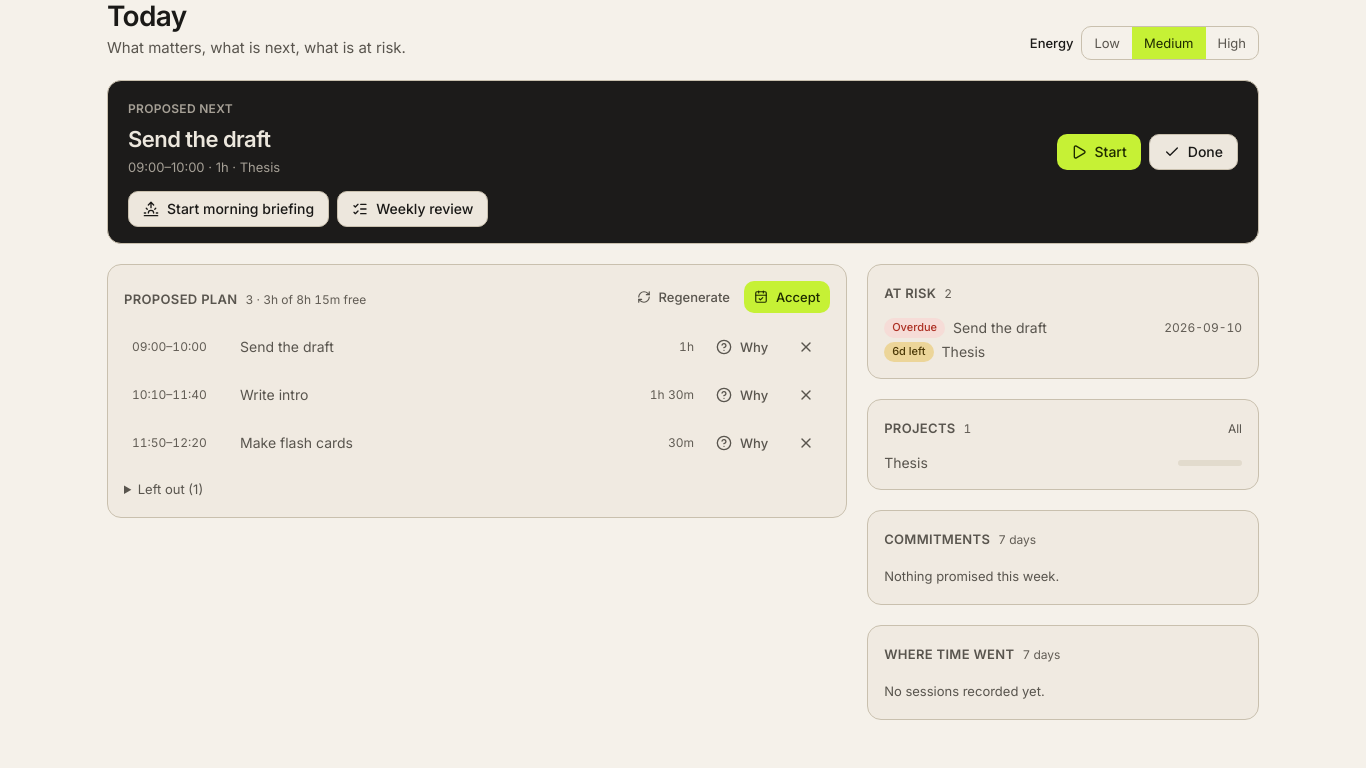
Test: TodayPage › opens a "why" popover listing the explanation components
This screenshot has width=1366, height=768.
Expected: the element with test id "focus" is shown, [107,80,1259,244]
Click the button with aria-label "Why Send the draft": (742,347) [706,331,778,363]
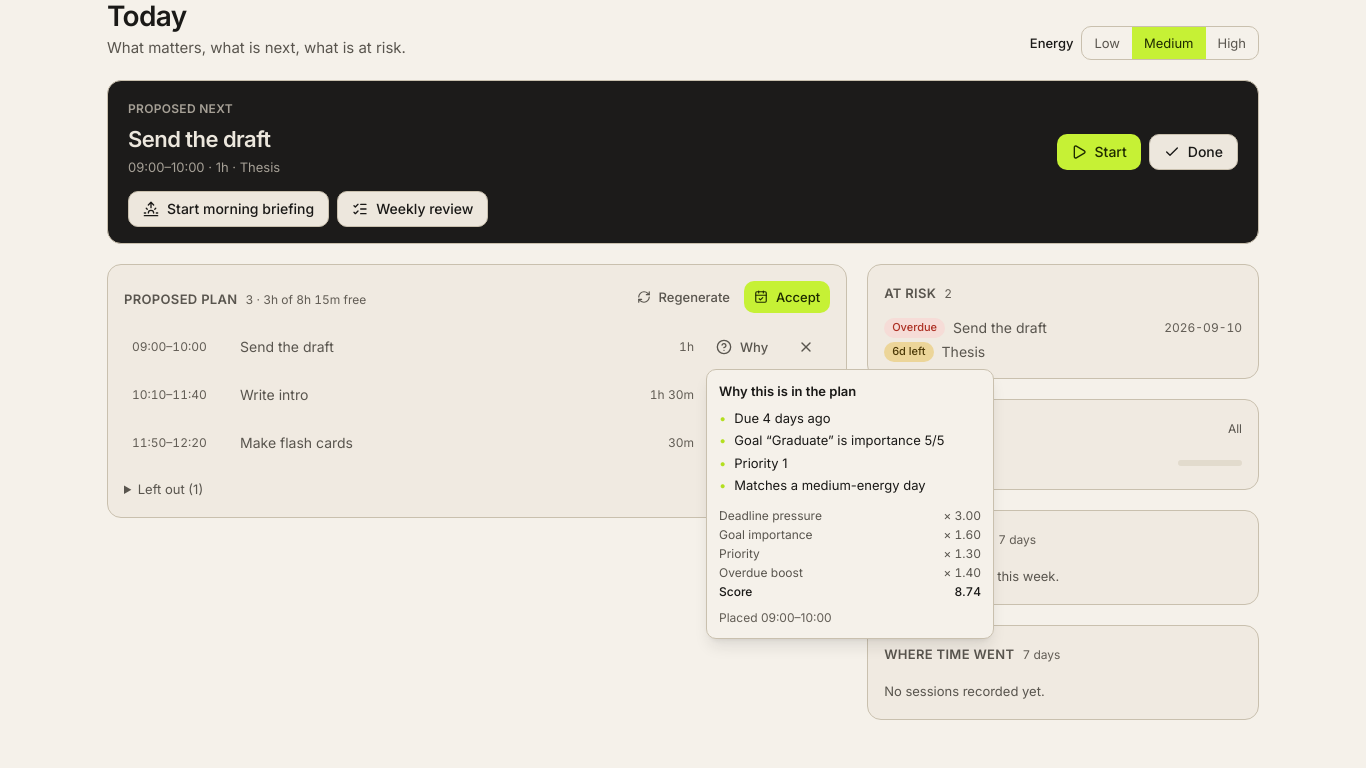
Expected: the list items read "•Due 4 days ago", "•Goal “Graduate” is importance 5/5", "•Priority 1", "•Matches a medium-energy day", in this order, [719,410,831,426]; [719,431,981,450]; [719,455,788,471]; [719,477,926,493]
Expected: the text "Deadline pressure" is shown, [719,508,822,523]
Expected: the text "Overdue boost" is shown, [719,565,803,580]
